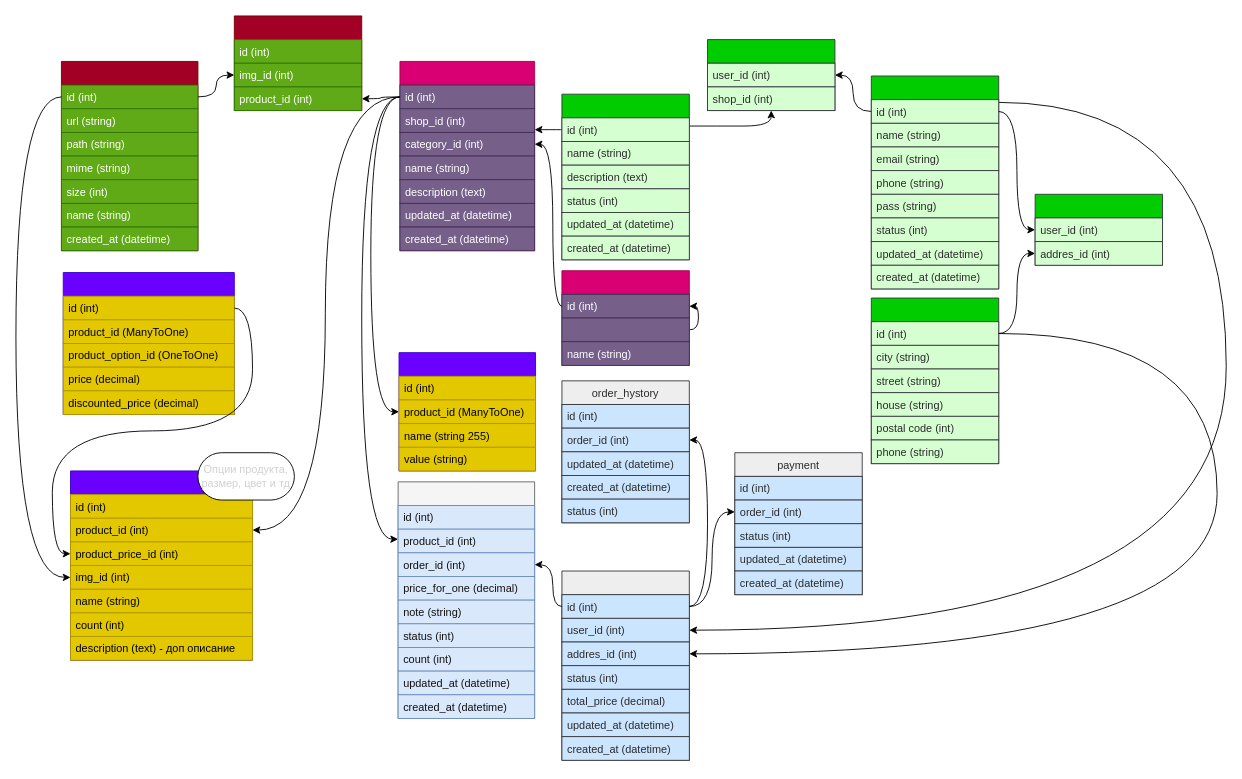
Some shapes in this 1242 by 779 pixel diagram are drawn without their labels. Each missing label, with the box of its shape:
address: (870, 297, 999, 464)
category: (561, 270, 689, 365)
img: (61, 61, 198, 251)
img_to_product: (233, 15, 362, 111)
order: (561, 570, 689, 760)
parent_id (int): (561, 317, 689, 342)
product: (399, 61, 535, 251)
product_characteristic: (398, 352, 536, 471)
product_option: (70, 470, 253, 660)
product_order: (397, 481, 535, 718)
product_price: (62, 272, 234, 415)
shop: (561, 93, 689, 260)
user: (870, 75, 999, 289)
user_to_addres: (1034, 193, 1163, 265)
user_to_shop: (707, 39, 835, 111)
